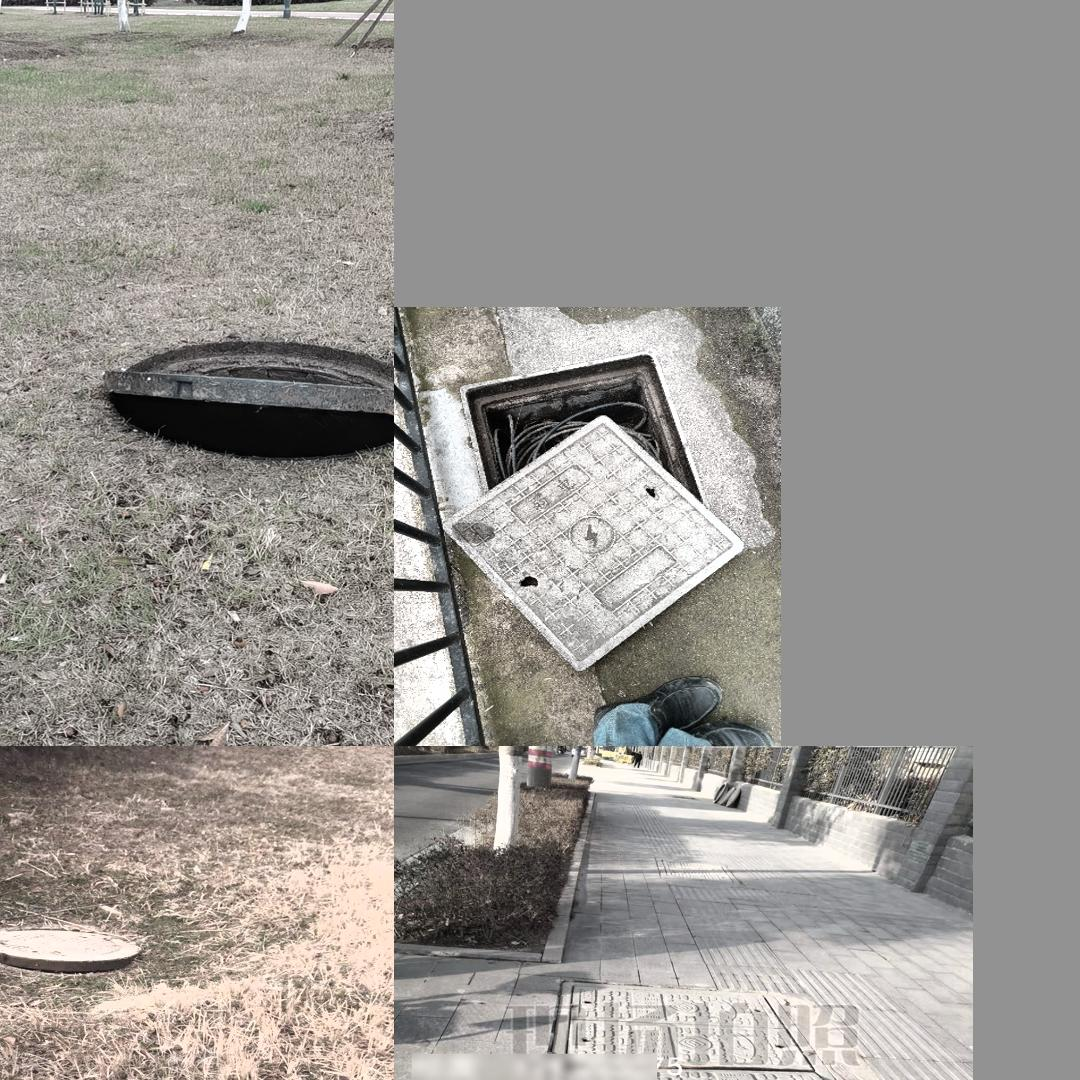uncovered: (442, 355, 744, 669), (109, 340, 394, 460), (532, 981, 875, 1080), (0, 928, 139, 976)
